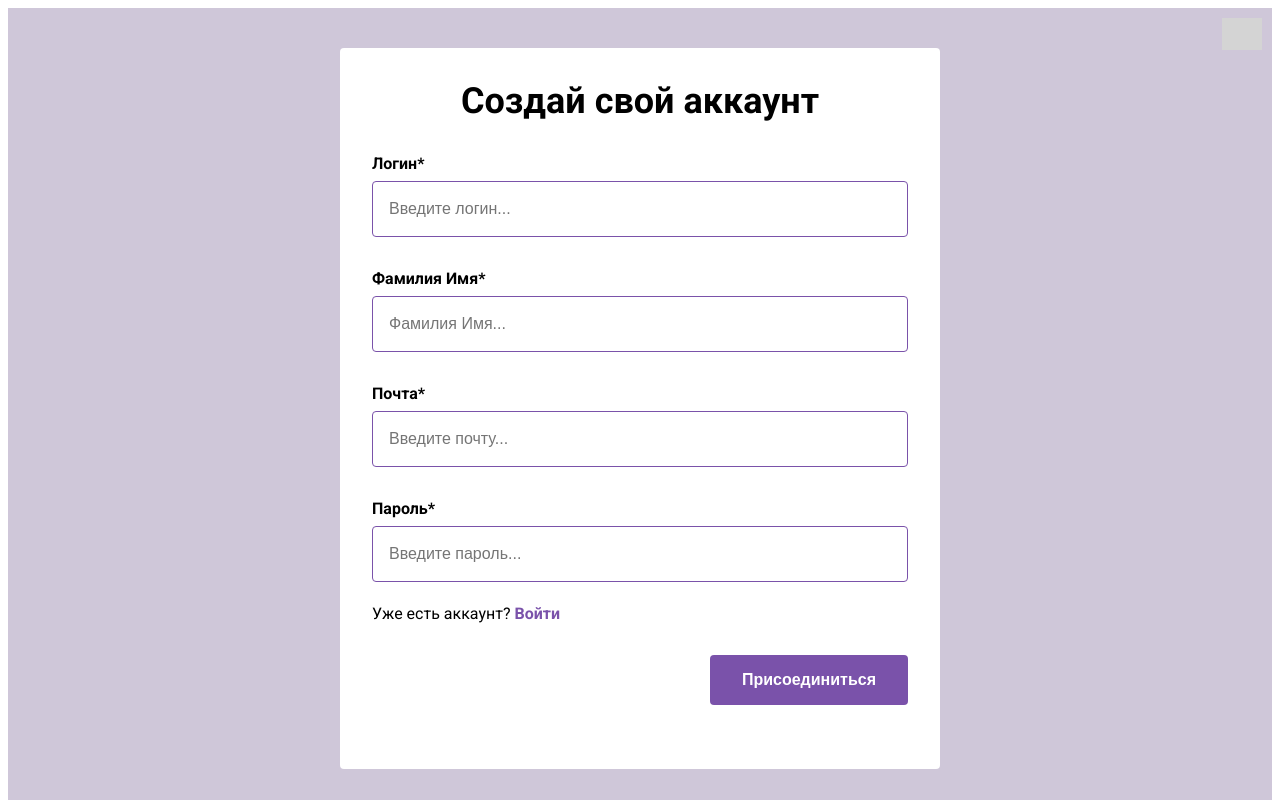
Test case: Testing Registration Component EXIST LOGIN › submit exist login
Type "testing@test.test" into the field labelled "Почта*" at (640, 438), box x1=372 y1=410 x2=908 y2=466
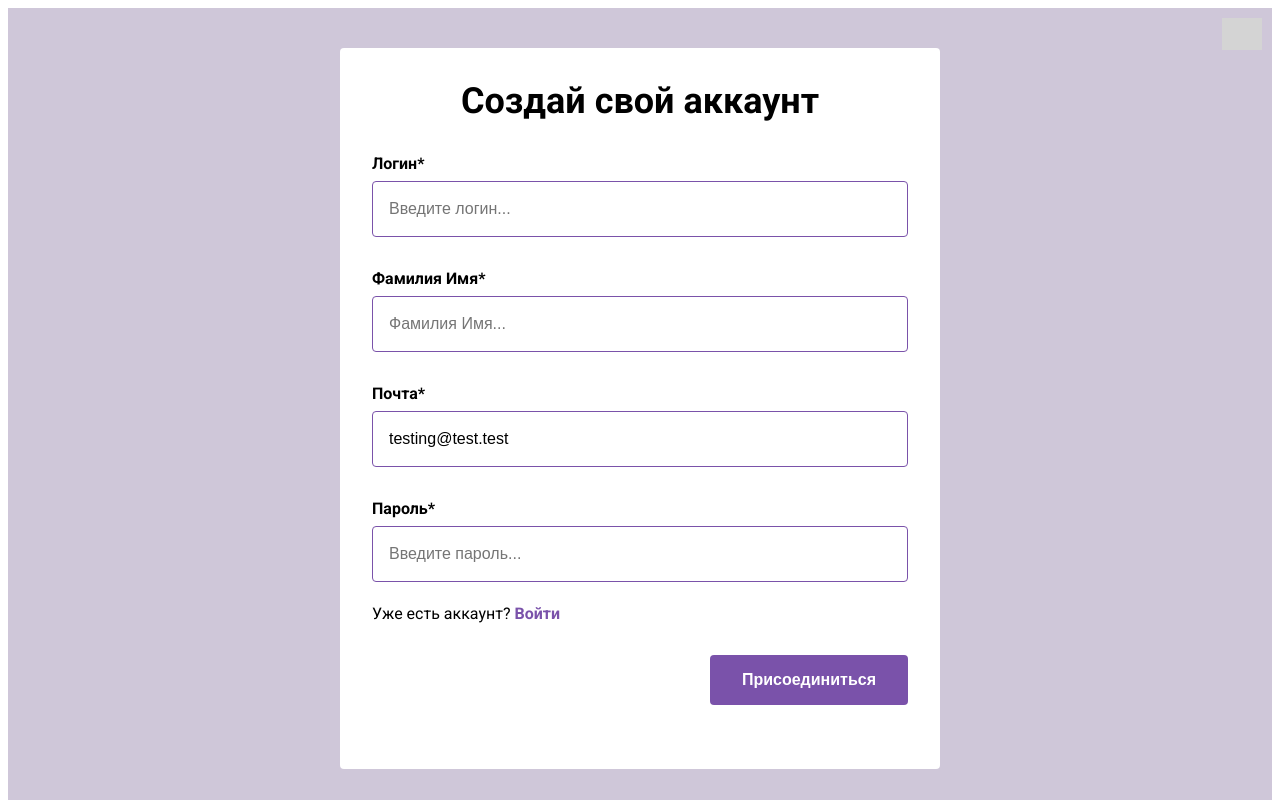
Type "VolodinAS" into the field labelled "Логин*" at (640, 208), box x1=372 y1=180 x2=908 y2=236
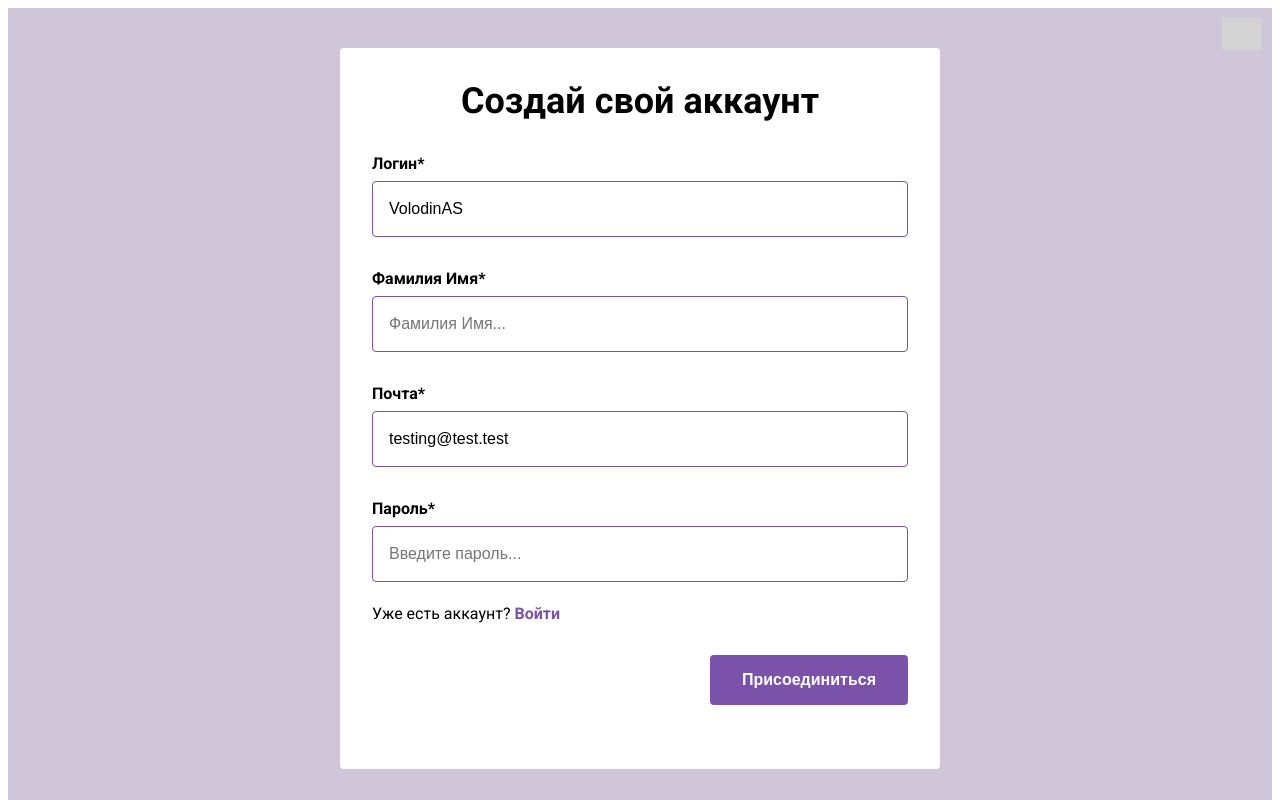
Type "some fio" into the field labelled "Фамилия Имя*" at (640, 324), box x1=372 y1=296 x2=908 y2=352
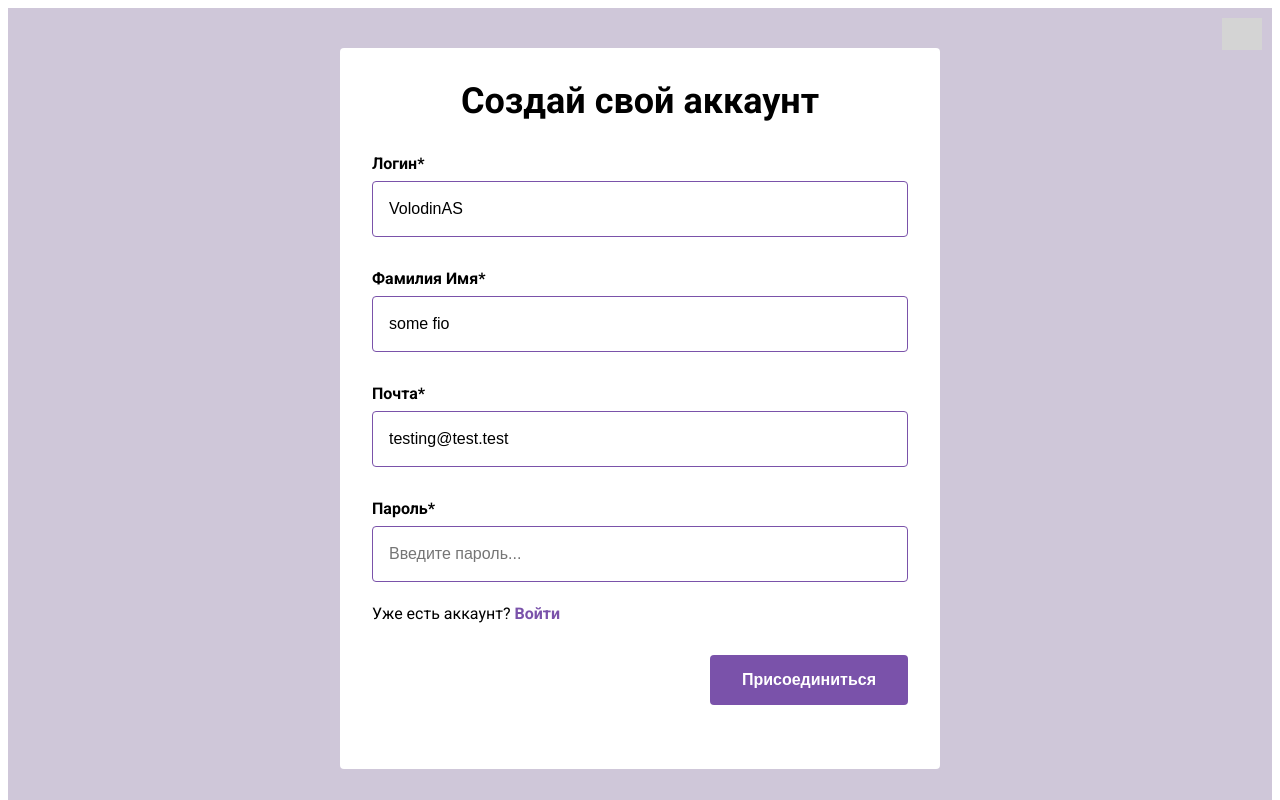
Type "some password" into the password field labelled "Пароль*" at (640, 554), box x1=372 y1=526 x2=908 y2=582
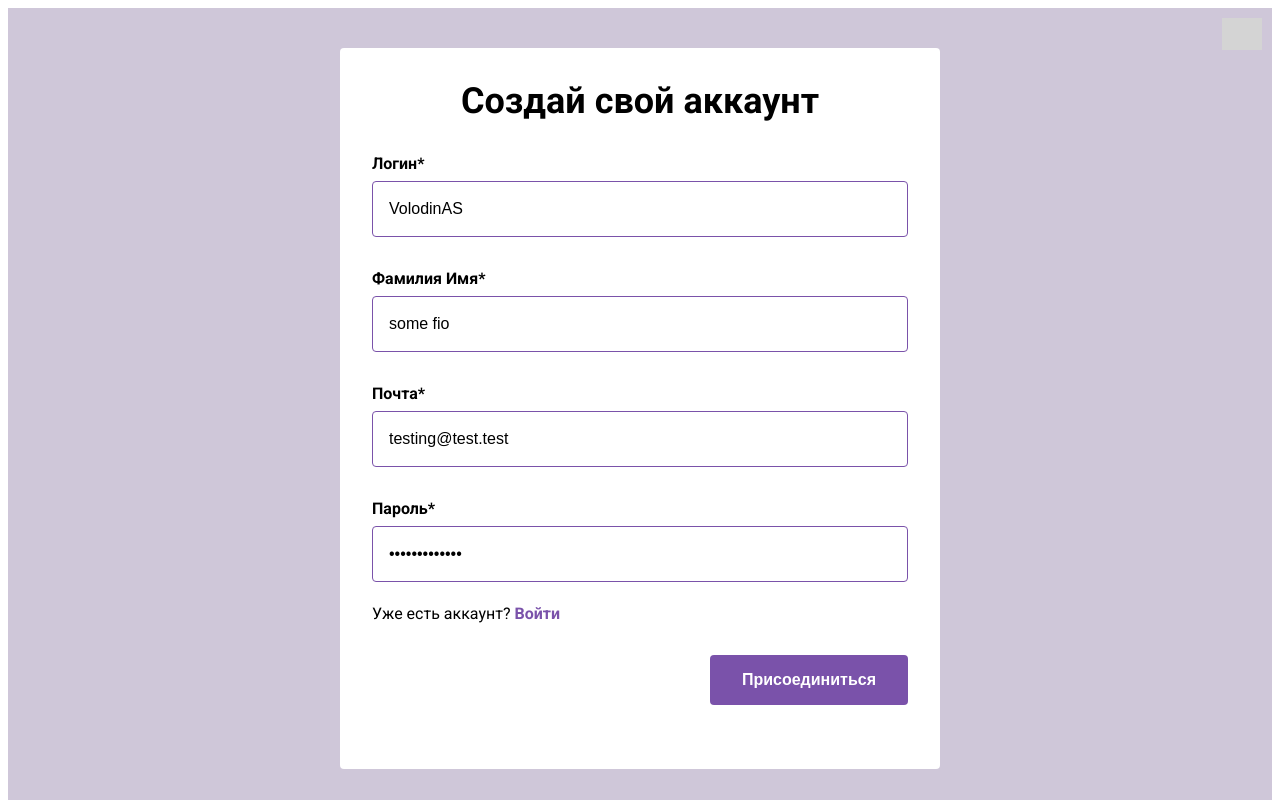
Submit the form with test id "signup-form", box x1=372 y1=154 x2=908 y2=704
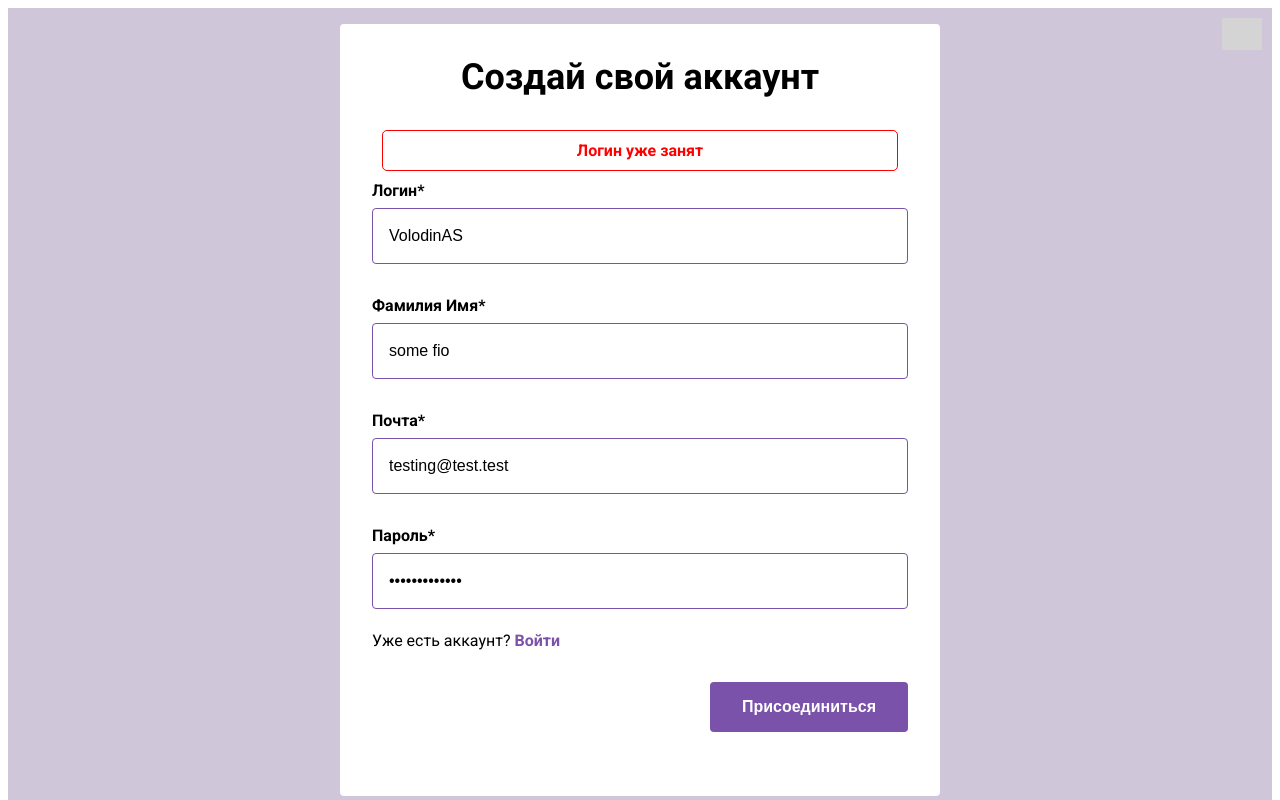
Check: the text "Логин уже занят" is shown, box x1=382 y1=130 x2=898 y2=171
